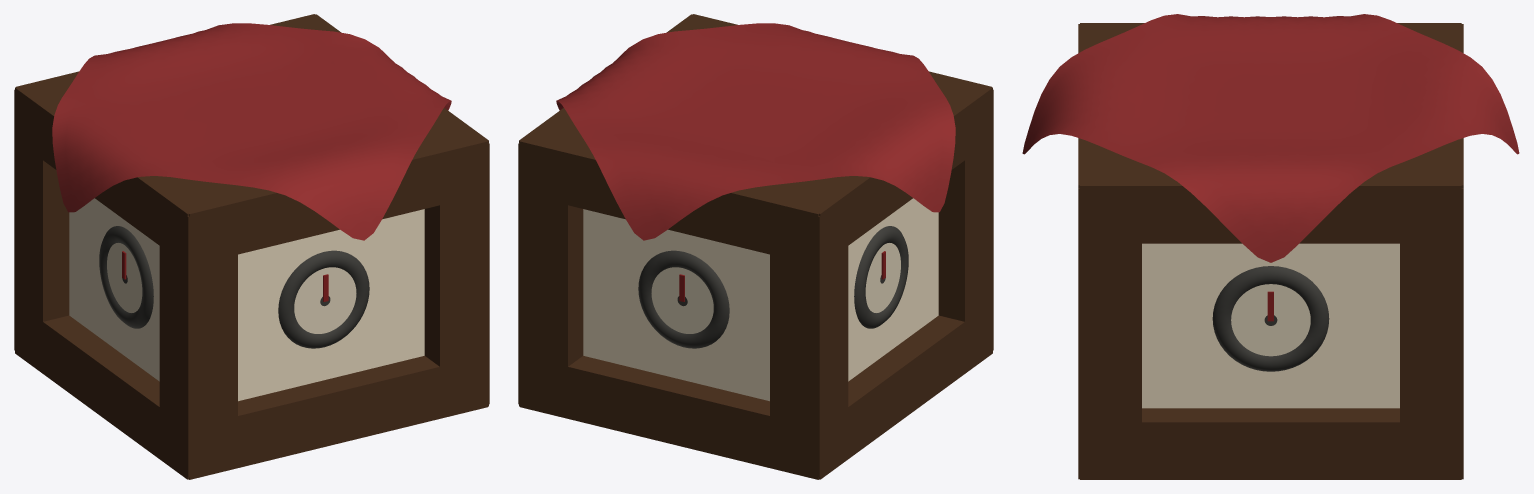
Rendered from cartography-table-colored.fbx.
3 renders of one model, left to right at view 1: azimuth 30°, elevation 25°; view 2: azimuth 150°, elevation 25°; view 3: azimuth 270°, elevation 25°, orthographic. The views are drawn at different scales.
Parts seen in each view (by area): view 1: Cube.001, Plane, Cube, Torus, Circle, Torus.002, Circle.002; view 2: Cube.001, Plane, Cube, Torus, Circle, Torus.002, Circle.002; view 3: Cube.001, Plane, Cube, Torus.002, Circle.002.
Boxes of the visible parts, x1,y1,x2,y2 form: Cube.001: (14, 14, 489, 479); Plane: (52, 23, 451, 240); Cube: (69, 198, 424, 401); Torus: (278, 250, 369, 348); Circle: (294, 267, 356, 333); Torus.002: (99, 226, 153, 328); Circle.002: (107, 243, 142, 312); Cube.001: (518, 14, 993, 479); Plane: (556, 23, 955, 240); Cube: (583, 198, 938, 401); Torus: (638, 250, 729, 348); Circle: (651, 267, 713, 333); Torus.002: (854, 226, 908, 328); Circle.002: (865, 243, 900, 312); Cube.001: (1078, 23, 1463, 479); Plane: (1022, 14, 1519, 262); Cube: (1142, 243, 1399, 408); Torus.002: (1212, 266, 1329, 371); Circle.002: (1231, 284, 1310, 356).
Size of the model in its own units: 148 by 107 by 156.
